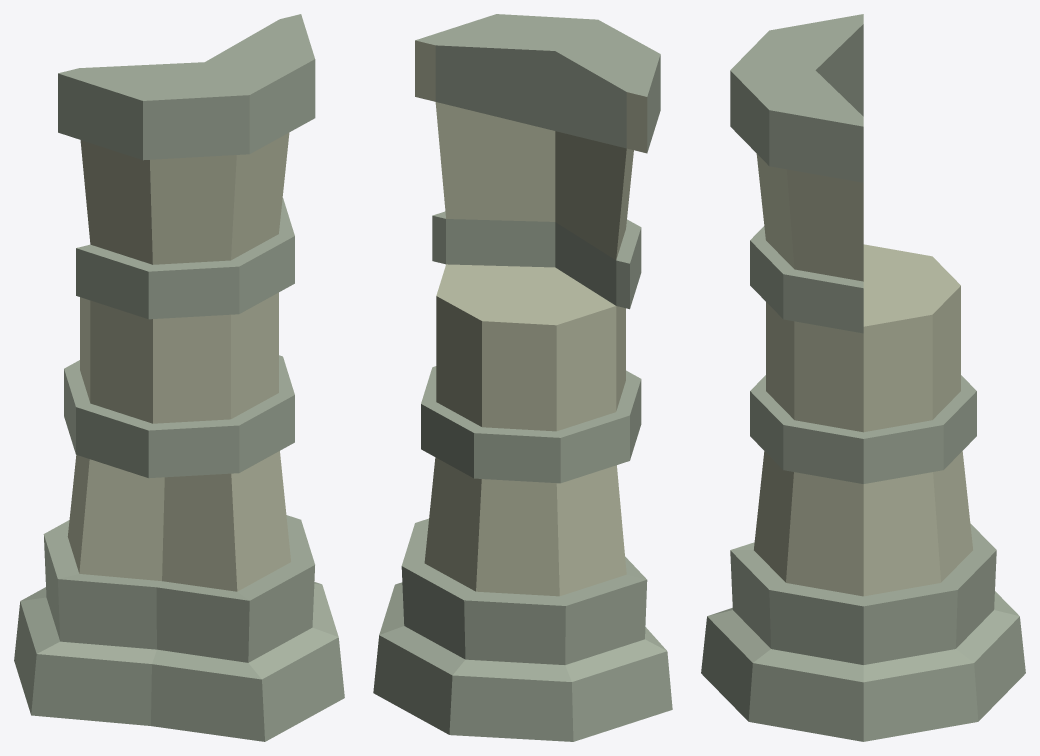
Rendered from Pilier 2.1.fbx.
3 renders of one model, left to right at view 1: azimuth 30°, elevation 25°; view 2: azimuth 150°, elevation 25°; view 3: azimuth 270°, elevation 25°, orthographic. The views are drawn at different scales.
Visible parts, largest first — view 1: Pilier v2.1; view 2: Pilier v2.1; view 3: Pilier v2.1.
Part boxes in pixels (<box>): Pilier v2.1: <box>14,14,344,741</box>; Pilier v2.1: <box>373,14,672,741</box>; Pilier v2.1: <box>701,14,1025,741</box>.
Bounding box in the file's own units: 898 × 1843 × 898.
